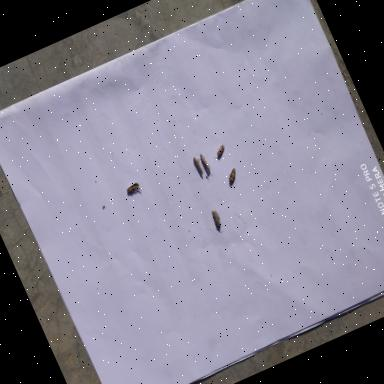pbw: (186, 152, 212, 184), (205, 204, 229, 238), (220, 162, 246, 190), (123, 178, 147, 206), (194, 150, 216, 180), (208, 142, 231, 163)
